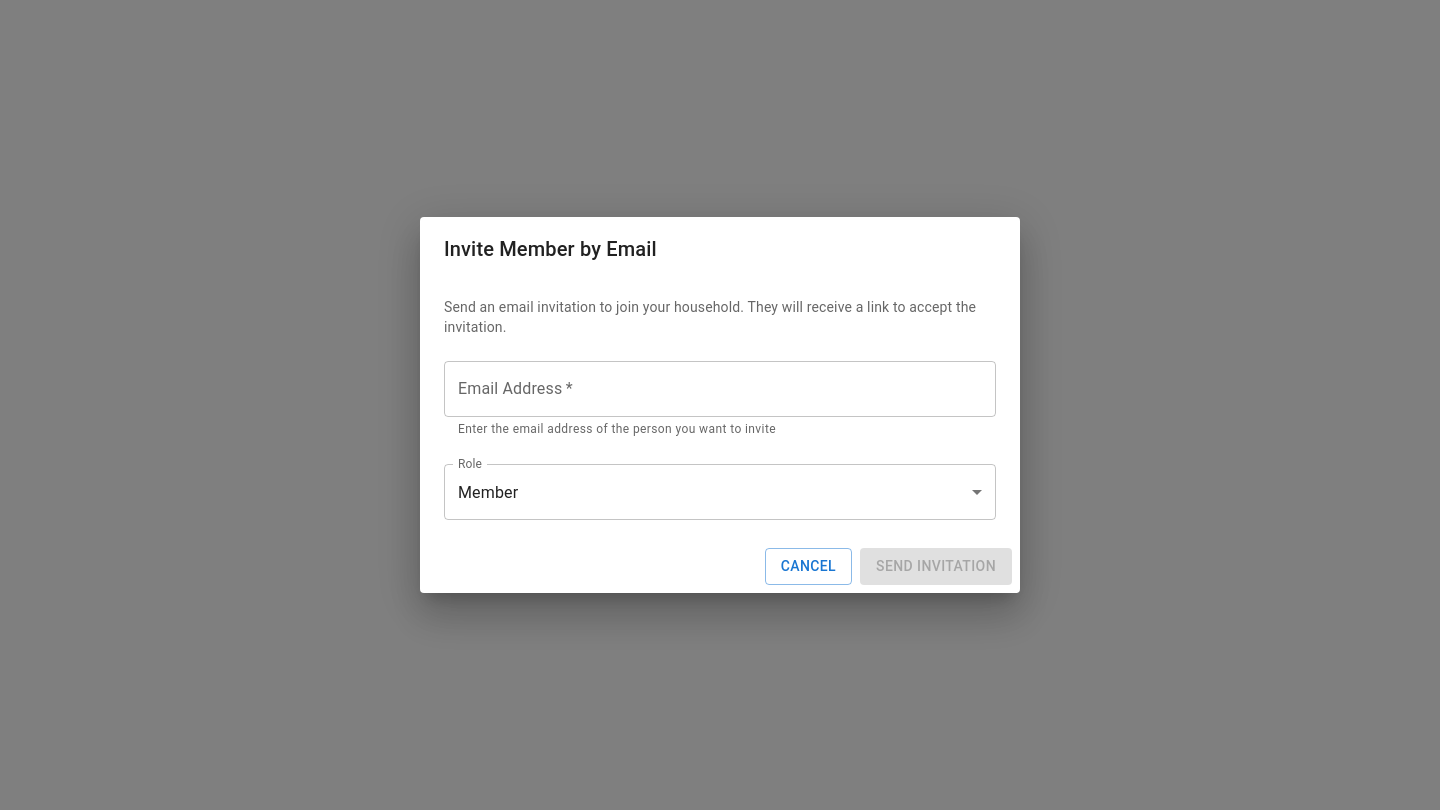
Scenario: InviteMemberDialog Component › Error handling › should display error message on failure
This screenshot has width=1440, height=810.
Type "test@example.com" into the field labelled "Email Address *" at (720, 389), box [444,361,996,417]
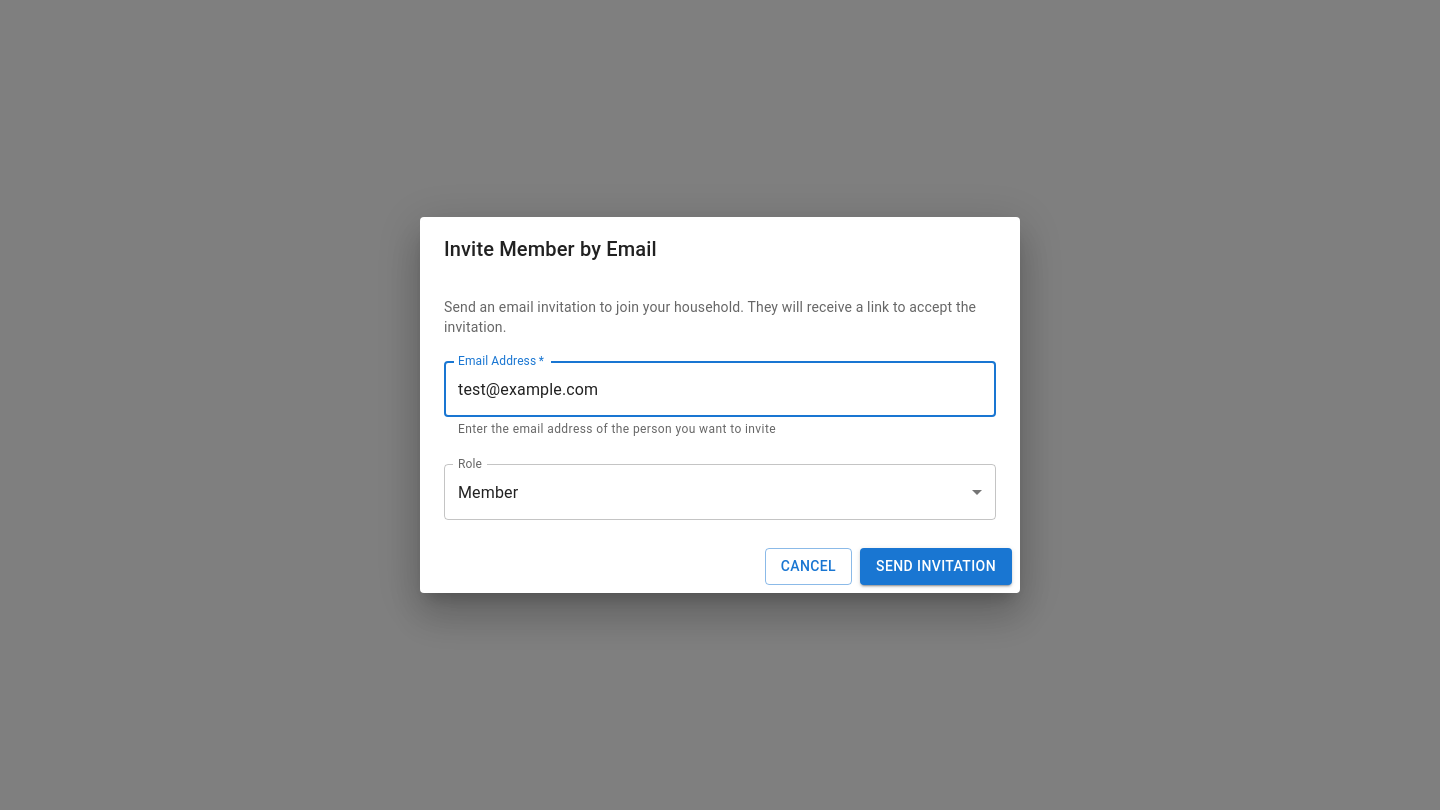
Click the button "Send Invitation" at (936, 566), box [860,548,1012,585]
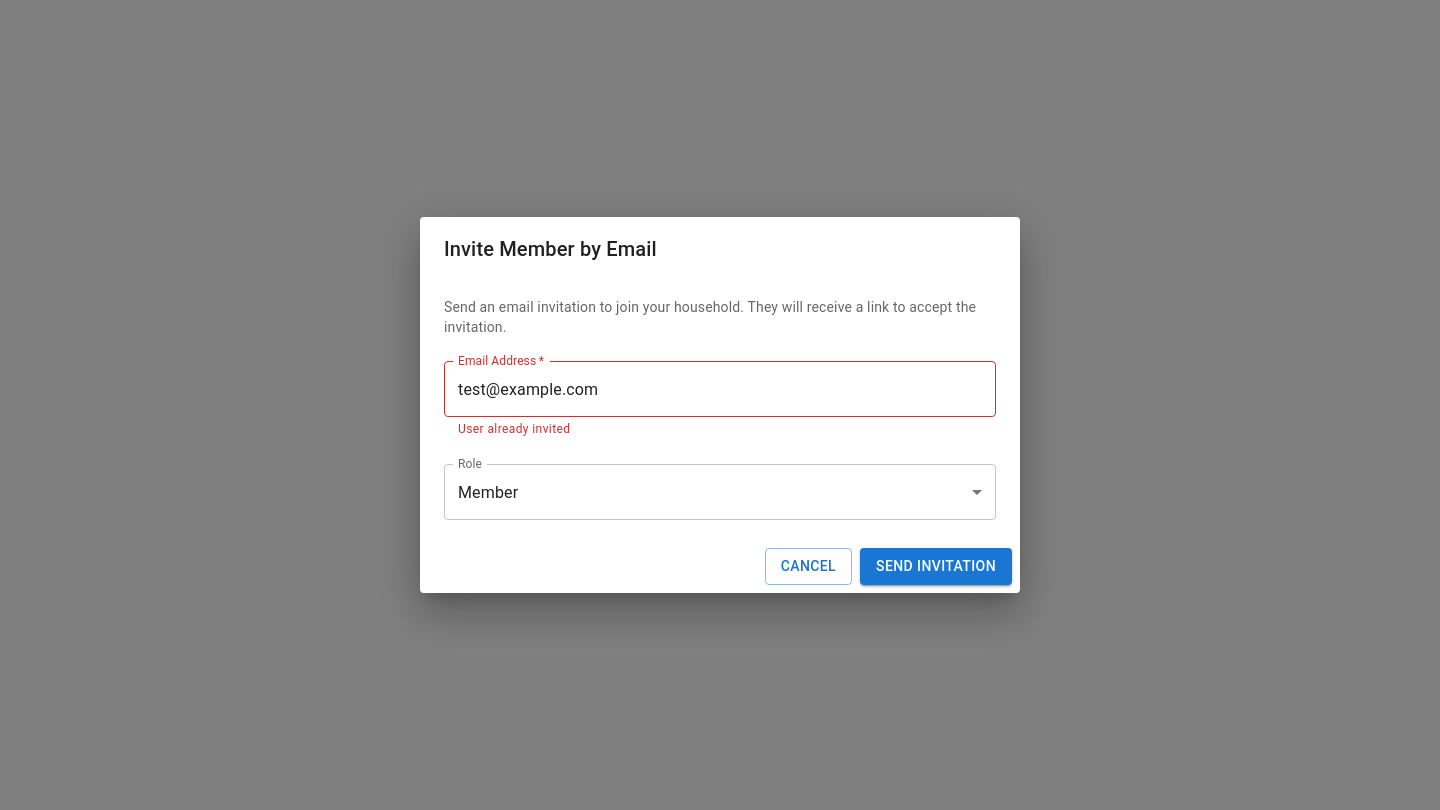
Result: the text "User already invited" is shown at [458,422,570,436]
